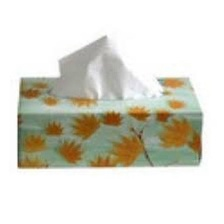book: (11, 70, 208, 173)
tissue: (52, 29, 168, 105)
